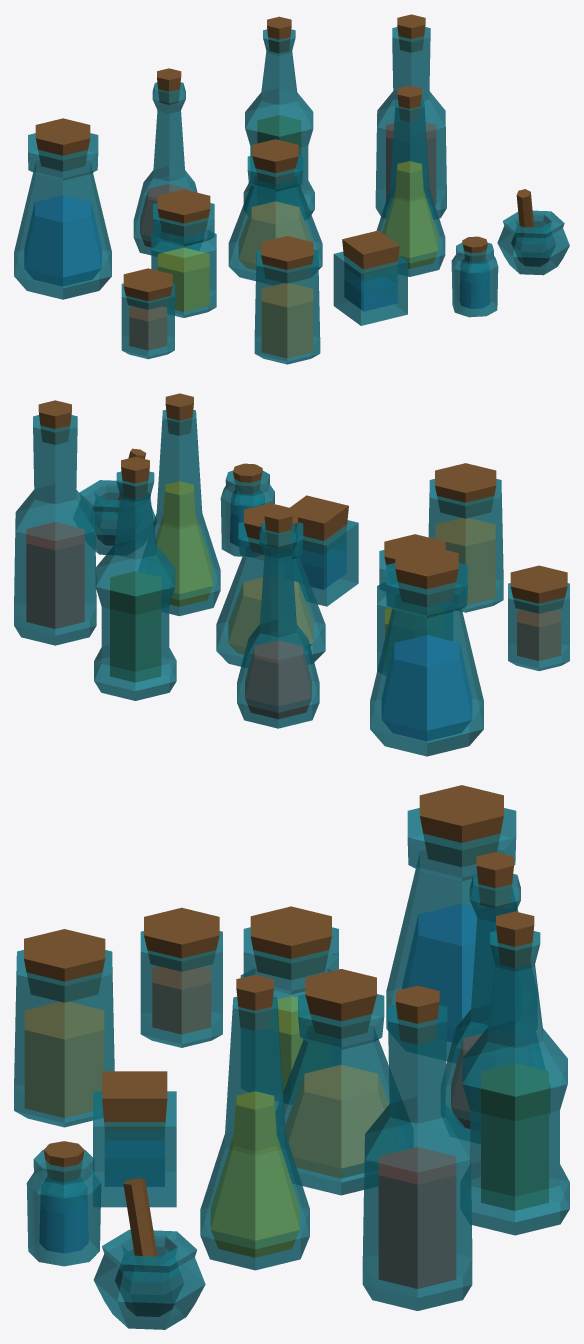
Rendered from potions.glb.
The picture shows the model from 3 angles, top to bottom: view 1: azimuth 30°, elevation 25°; view 2: azimuth 150°, elevation 25°; view 3: azimuth 270°, elevation 25°; orthographic projection. The views are drawn at different scales.
Parts seen in each view (by area): view 1: Cylinder1327, Cylinder1326, Cylinder1329, Cylinder021, Cylinder022, Cylinder1328, Cylinder003, Box028, Cylinder002, Cylinder024, ItemF_1531, Cylinder016 (+2 smaller); view 2: Cylinder1327, Cylinder1328, Cylinder003, Cylinder002, Cylinder1329, Cylinder1326, Cylinder021, Cylinder024, Box028, Cylinder016, ItemF_1531, Cylinder022 (+1 smaller); view 3: Cylinder1328, Cylinder003, Cylinder1329, Cylinder021, Cylinder1327, Cylinder1326, Cylinder024, Box028, Cylinder022, ItemF_1531, Cylinder016, Cylinder002 (+2 smaller).
Part boxes in pixels (x1=…): Cylinder1327: x1=14, y1=118, x2=111, y2=299; Cylinder1326: x1=254, y1=236, x2=320, y2=364; Cylinder1329: x1=376, y1=85, x2=445, y2=276; Cylinder021: x1=228, y1=139, x2=322, y2=281; Cylinder022: x1=151, y1=189, x2=216, y2=317; Cylinder1328: x1=375, y1=14, x2=446, y2=218; Cylinder003: x1=243, y1=16, x2=314, y2=214; Box028: x1=333, y1=230, x2=407, y2=325; Cylinder002: x1=133, y1=68, x2=197, y2=255; Cylinder024: x1=121, y1=268, x2=174, y2=359; ItemF_1531: x1=497, y1=210, x2=569, y2=275; Cylinder016: x1=451, y1=242, x2=498, y2=317; Cylinder1327: x1=370, y1=545, x2=483, y2=756; Cylinder1328: x1=14, y1=400, x2=96, y2=645; Cylinder003: x1=94, y1=456, x2=176, y2=700; Cylinder002: x1=237, y1=506, x2=319, y2=728; Cylinder1329: x1=153, y1=393, x2=220, y2=616; Cylinder1326: x1=428, y1=463, x2=503, y2=612; Cylinder021: x1=216, y1=503, x2=325, y2=666; Cylinder024: x1=508, y1=565, x2=569, y2=670; Box028: x1=290, y1=495, x2=358, y2=606; Cylinder016: x1=220, y1=470, x2=274, y2=556; ItemF_1531: x1=79, y1=480, x2=155, y2=554; Cylinder022: x1=377, y1=534, x2=450, y2=670; Cylinder1328: x1=362, y1=985, x2=472, y2=1310; Cylinder003: x1=462, y1=911, x2=569, y2=1235; Cylinder1329: x1=200, y1=974, x2=309, y2=1270; Cylinder021: x1=283, y1=969, x2=389, y2=1195; Cylinder1327: x1=386, y1=785, x2=518, y2=1061; Cylinder1326: x1=14, y1=929, x2=114, y2=1127; Cylinder024: x1=140, y1=907, x2=222, y2=1047; Box028: x1=93, y1=1071, x2=176, y2=1207; Cylinder022: x1=240, y1=906, x2=338, y2=1092; ItemF_1531: x1=93, y1=1229, x2=205, y2=1329; Cylinder016: x1=26, y1=1150, x2=101, y2=1266; Cylinder002: x1=445, y1=852, x2=520, y2=1133.
Size of the model in its own units: 1.79 by 0.7271 by 1.25.
